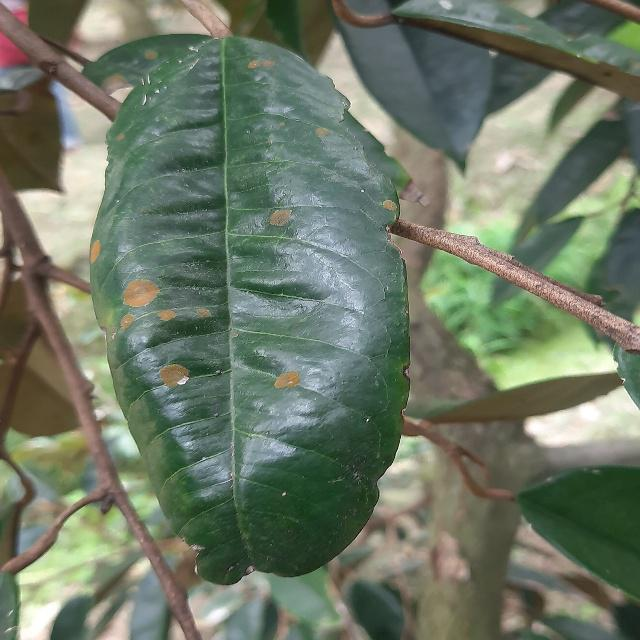Algal Leaf Spot: (87, 33, 407, 588)
